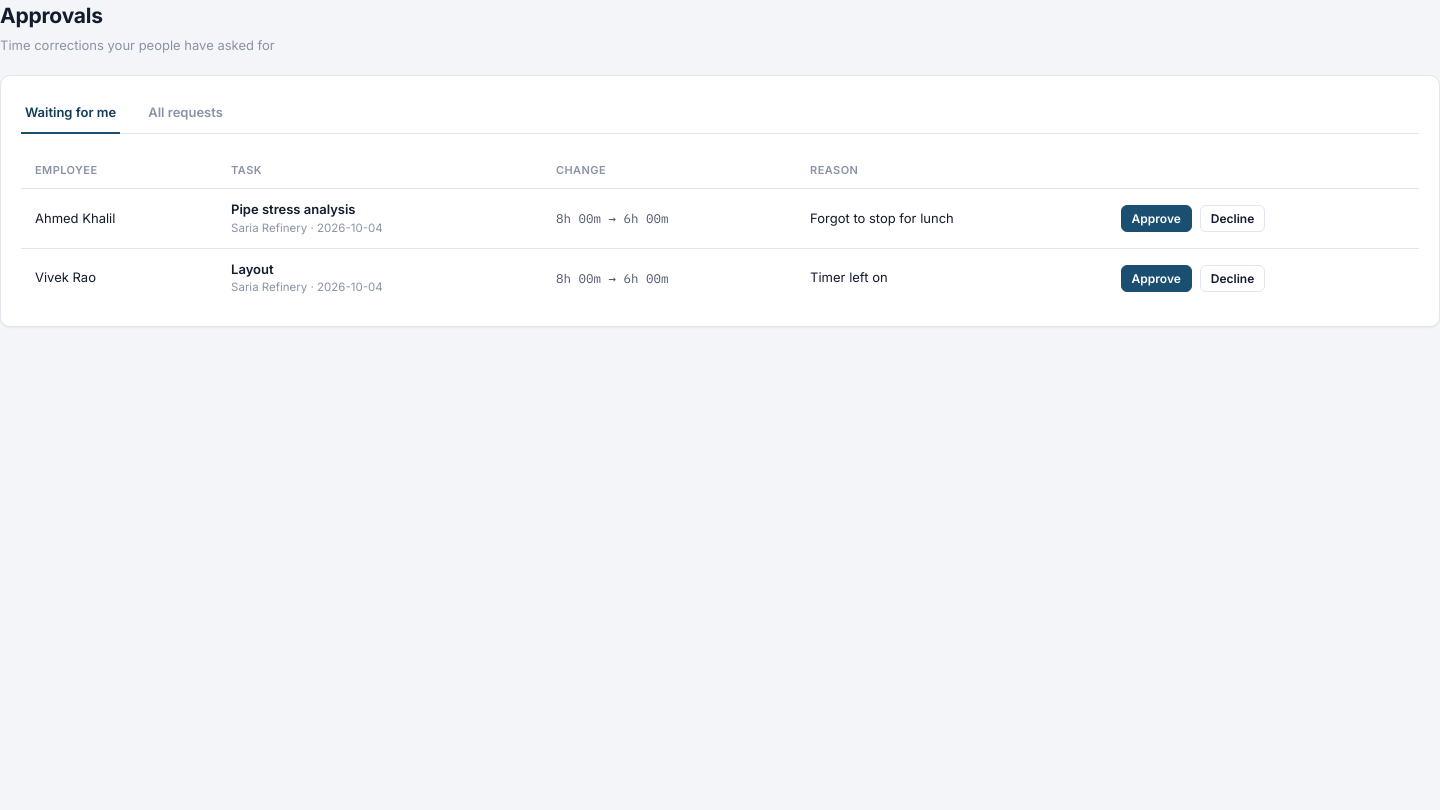
Approvals › approves a request, with an optional note, and refreshes the list
Click the button "Approve" in the row of "Ahmed Khalil" at coordinates (1156, 218), box left=1121, top=205, right=1192, bottom=232
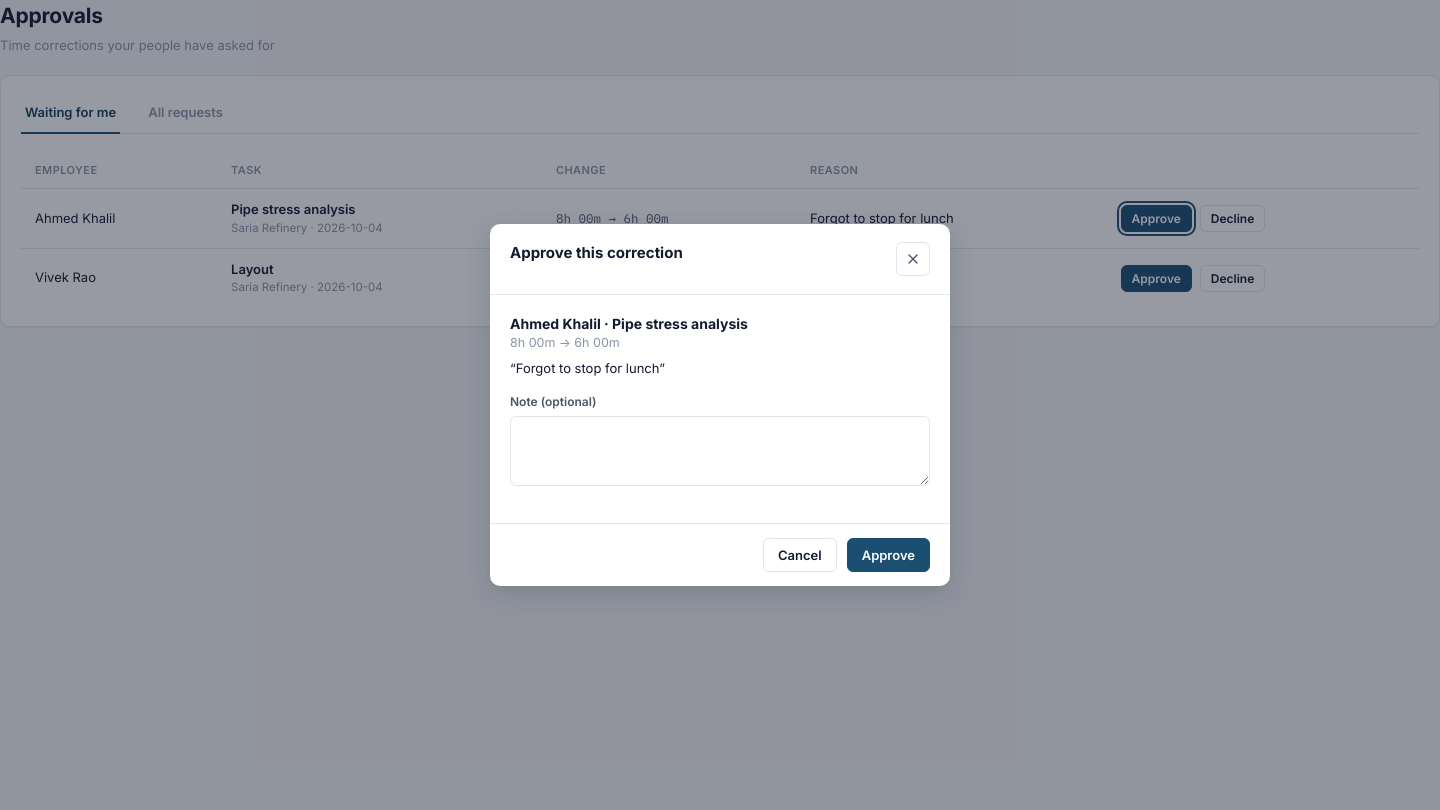
expect the heading "Approve this correction" is shown: met, box left=510, top=242, right=683, bottom=265
expect the text "“Forgot to stop for lunch”" is shown: met, box left=510, top=360, right=665, bottom=376
Type "Fine" into the text box at coordinates (720, 451), box left=510, top=416, right=930, bottom=486
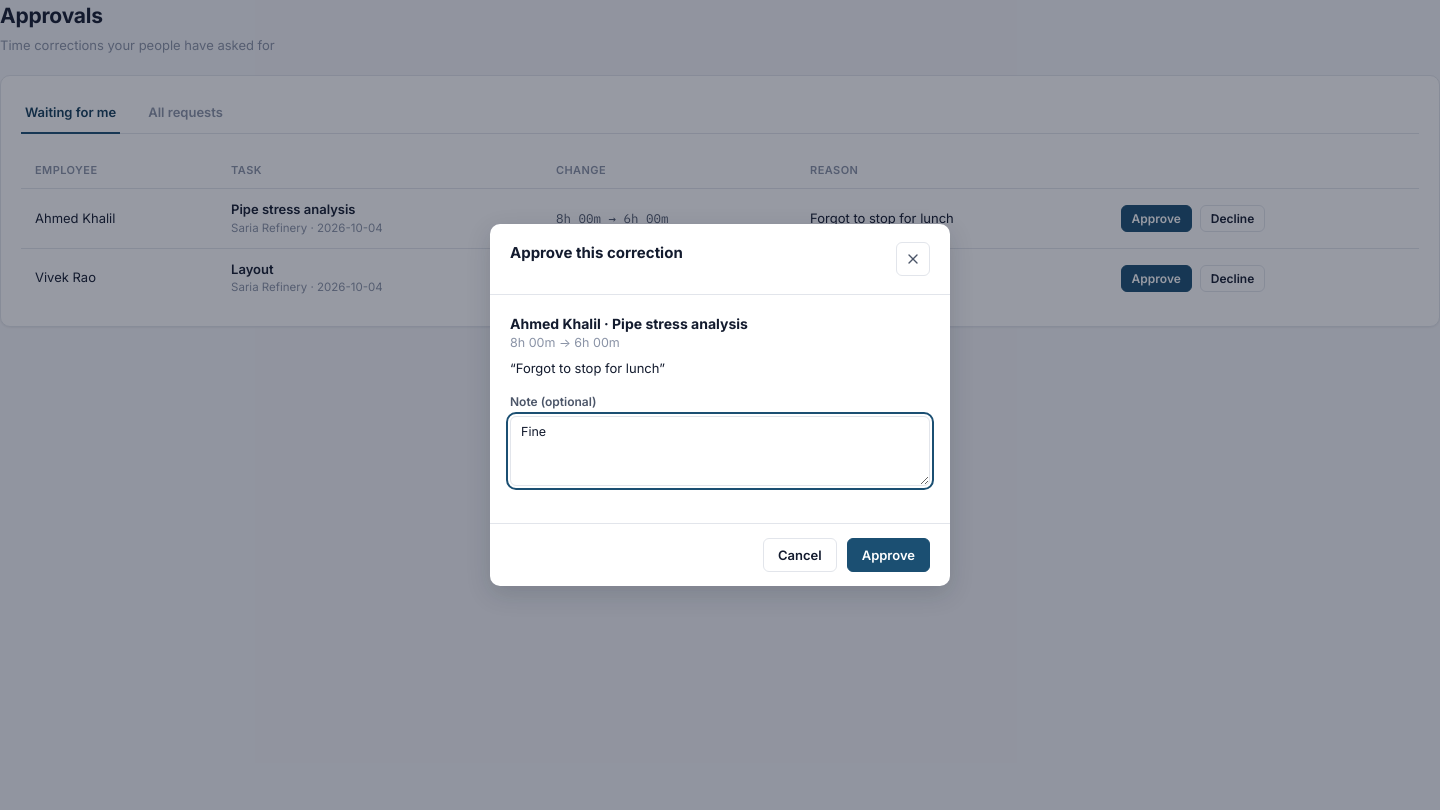
Click the button "Approve" at coordinates (888, 555), box left=847, top=538, right=930, bottom=572
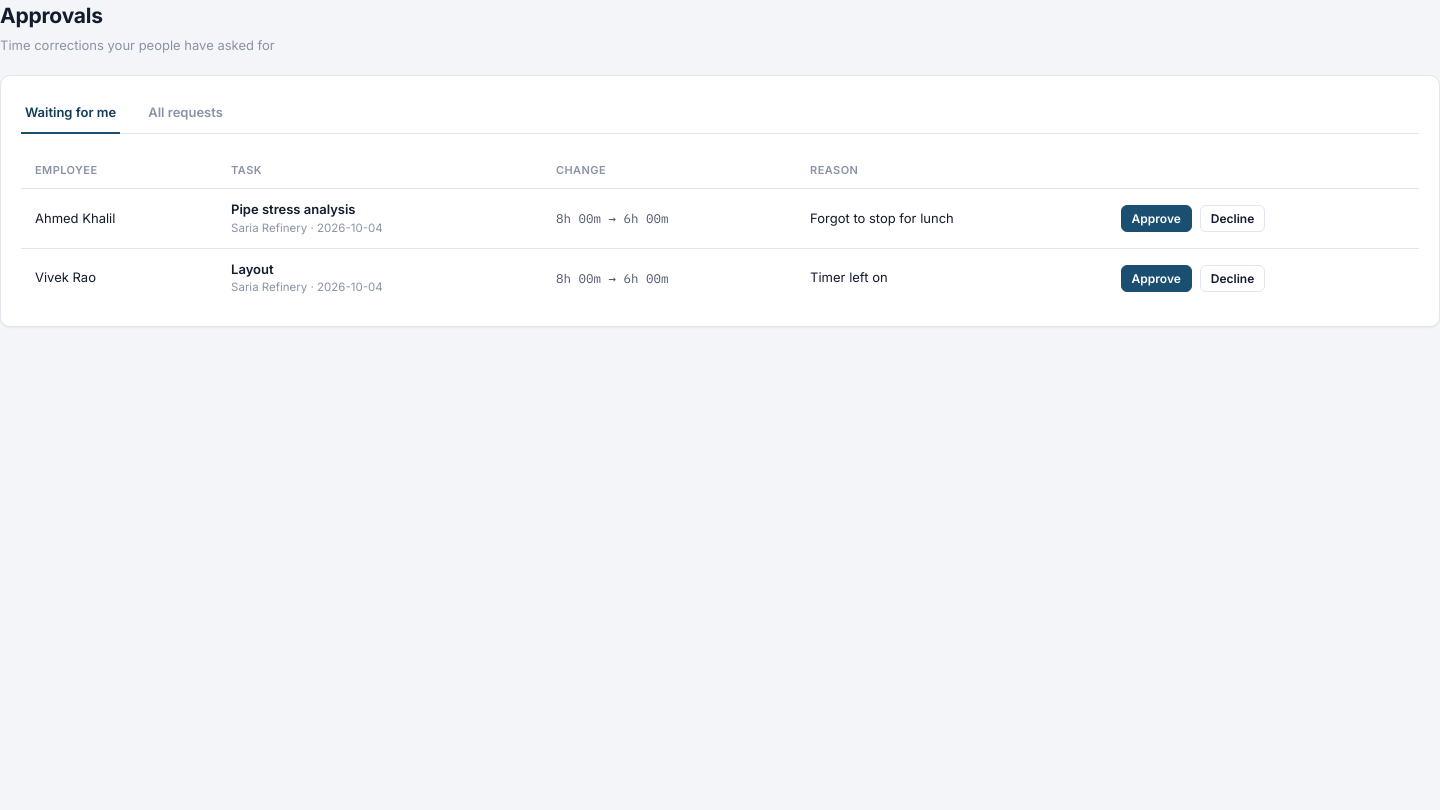
expect the element with class "modal-panel" is gone: met
